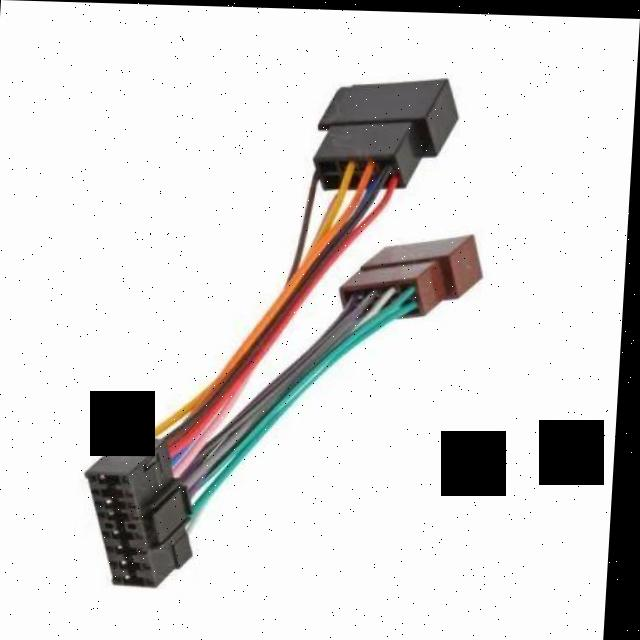connector: (315, 76, 457, 186), (91, 437, 196, 585), (344, 232, 485, 314)
